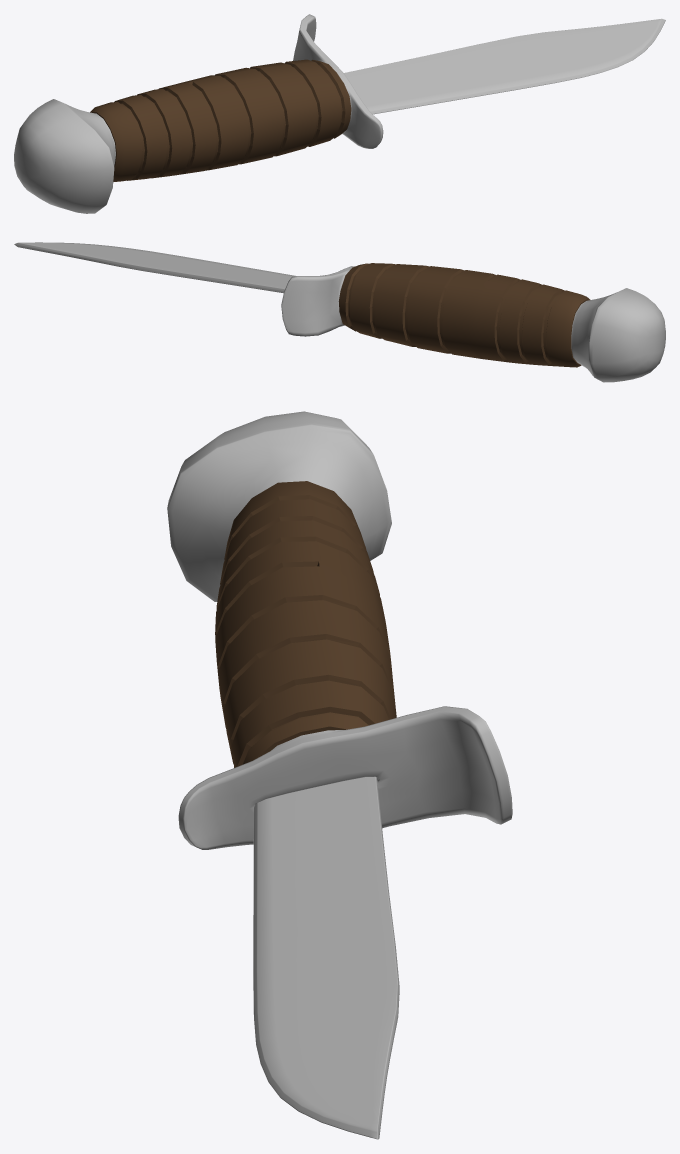
File: Knife[FXB].FBX
3 renders of one model, top to bottom at view 1: azimuth 30°, elevation 25°; view 2: azimuth 150°, elevation 25°; view 3: azimuth 270°, elevation 25°, orthographic. The views are drawn at different scales.
Visible parts, largest first — view 1: Object001, Plane002, Shaft02; view 2: Object001, Shaft02, Plane002; view 3: Shaft02, Plane002, Object001.
Boxes of the visible parts, x1,y1,x2,y2 form: Object001: (90,59,351,181); Plane002: (344,18,665,114); Shaft02: (14,14,383,213); Object001: (338,263,590,367); Shaft02: (281,266,665,382); Plane002: (14,242,295,292); Shaft02: (167,411,512,849); Plane002: (253,776,399,1139); Object001: (215,481,396,767).
Bounding box in the file's own units: 30.89 × 4.3 × 7.43.
